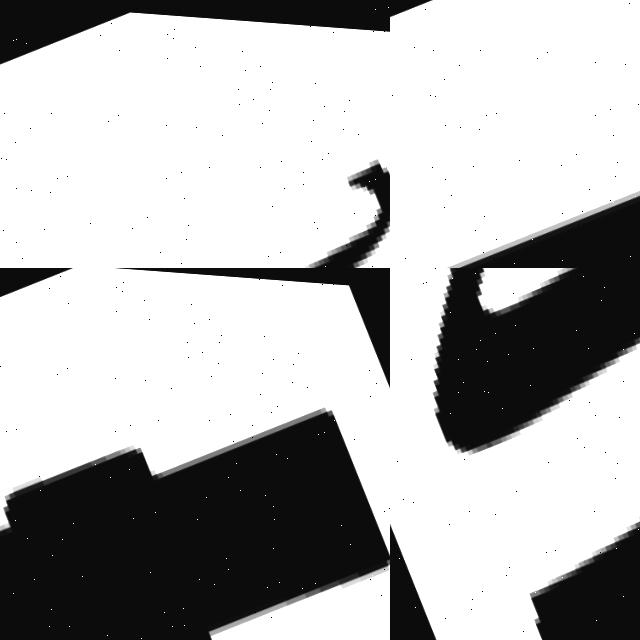F: (0, 318, 390, 640)
J: (0, 108, 390, 268)
L: (390, 29, 640, 268)
U: (390, 268, 640, 640)
